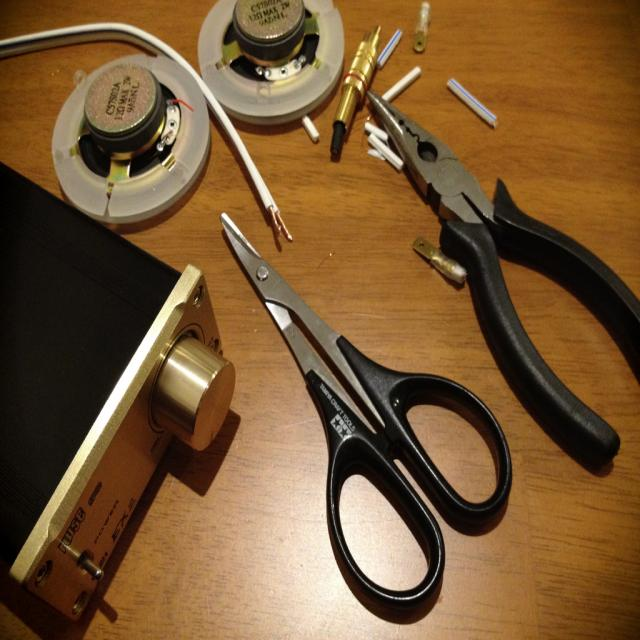scissors: (218, 210, 512, 617)
